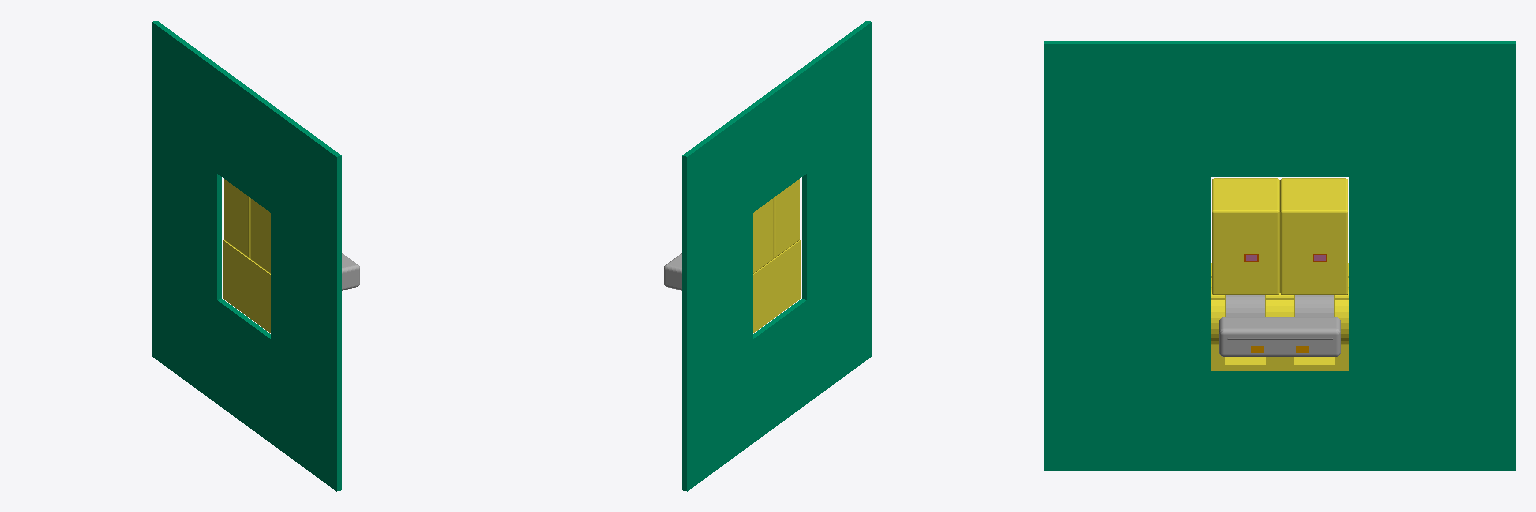
URDF robot description (circuit_breaker):
<?xml version="1.0" ?>
<!-- =================================================================================== -->
<!-- |    This document was autogenerated by xacro from src/IO_gazebo/urdf/breaker.urdf.xacro | -->
<!-- |    EDITING THIS FILE BY HAND IS NOT RECOMMENDED                                 | -->
<!-- =================================================================================== -->
<robot name="circuit_breaker">
  <link name="breaker_mount_link">
    <inertial>
      <origin xyz="0 0 0"/>
      <mass value="0.1"/>
      <inertia ixx="0.00024" ixy="0" ixz="0" iyy="0.00012003333333333334" iyz="0" izz="0.00012003333333333334"/>
    </inertial>
  </link>
  <link name="world"/>
  <joint name="breaker_world_mount" type="fixed">
    <parent link="world"/>
    <child link="breaker_mount_link"/>
    <origin rpy="0 0 0" xyz="0 0 0.12"/>
  </joint>
  <link name="breaker_panel_link">
    <inertial>
      <origin xyz="0 0 0"/>
      <mass value="0.1"/>
      <inertia ixx="0.00024" ixy="0" ixz="0" iyy="0.00012003333333333334" iyz="0" izz="0.00012003333333333334"/>
    </inertial>
    <visual>
      <origin xyz="-0.001 0 0.04135"/>
      <geometry>
        <box size="0.002 0.12 0.0373"/>
      </geometry>
    </visual>
    <collision>
      <origin xyz="-0.001 0 0.04135"/>
      <geometry>
        <box size="0.002 0.12 0.0373"/>
      </geometry>
    </collision>
    <visual>
      <origin xyz="-0.001 0 -0.04135"/>
      <geometry>
        <box size="0.002 0.12 0.0373"/>
      </geometry>
    </visual>
    <collision>
      <origin xyz="-0.001 0 -0.04135"/>
      <geometry>
        <box size="0.002 0.12 0.0373"/>
      </geometry>
    </collision>
    <visual>
      <origin xyz="-0.001 0.03885 0"/>
      <geometry>
        <box size="0.002 0.0423 0.0454"/>
      </geometry>
    </visual>
    <collision>
      <origin xyz="-0.001 0.03885 0"/>
      <geometry>
        <box size="0.002 0.0423 0.0454"/>
      </geometry>
    </collision>
    <visual>
      <origin xyz="-0.001 -0.03885 0"/>
      <geometry>
        <box size="0.002 0.0423 0.0454"/>
      </geometry>
    </visual>
    <collision>
      <origin xyz="-0.001 -0.03885 0"/>
      <geometry>
        <box size="0.002 0.0423 0.0454"/>
      </geometry>
    </collision>
  </link>
  <joint name="breaker_panel_mount" type="fixed">
    <parent link="breaker_mount_link"/>
    <child link="breaker_panel_link"/>
  </joint>
  <gazebo reference="breaker_panel_link">
    <visual>
      <material>
        <ambient>0.40 0.43 0.44 1</ambient>
        <diffuse>0.40 0.43 0.44 1</diffuse>
        <specular>0.12 0.12 0.12 1</specular>
      </material>
    </visual>
    <selfCollide>false</selfCollide>
    <mu1>0.65</mu1>
    <mu2>0.65</mu2>
    <kp>100000</kp>
    <kd>1</kd>
    <maxVel>0.03</maxVel>
    <minDepth>0.000005</minDepth>
  </gazebo>
  <link name="breaker_base_link">
    <inertial>
      <origin xyz="0.01 0 0"/>
      <mass value="0.03"/>
      <inertia ixx="8.125e-06" ixy="0" ixz="0" iyy="6.062499999999999e-06" iyz="0" izz="4.0625e-06"/>
    </inertial>
    <visual>
      <origin xyz="0.01 0.00875 0.010499999999999999"/>
      <geometry>
        <mesh filename="package://io_gazebo/meshes/upper_shell.stl"/>
      </geometry>
    </visual>
    <visual>
      <origin xyz="0.01 -0.00875 0.010499999999999999"/>
      <geometry>
        <mesh filename="package://io_gazebo/meshes/upper_shell.stl"/>
      </geometry>
    </visual>
    <!-- Upper plates, thin rear wall, and lower sill; no solid box across the moving recess. -->
    <collision>
      <origin xyz="0.01 0 0.010499999999999999"/>
      <geometry>
        <box size="0.02 0.035 0.024"/>
      </geometry>
    </collision>
    <visual>
      <origin xyz="0.004 0 -0.012"/>
      <geometry>
        <box size="0.008 0.035 0.020999999999999998"/>
      </geometry>
    </visual>
    <collision>
      <origin xyz="0.004 0 -0.012"/>
      <geometry>
        <box size="0.008 0.035 0.020999999999999998"/>
      </geometry>
    </collision>
    <visual>
      <origin xyz="0.01 0 -0.0217"/>
      <geometry>
        <box size="0.02 0.035 0.0016"/>
      </geometry>
    </visual>
    <collision>
      <origin xyz="0.01 0 -0.0217"/>
      <geometry>
        <box size="0.02 0.035 0.0016"/>
      </geometry>
    </collision>
    <visual>
      <origin xyz="0.014 0.015725000000000003 -0.012"/>
      <geometry>
        <box size="0.012 0.0035500000000000006 0.019999999999999997"/>
      </geometry>
    </visual>
    <collision>
      <origin xyz="0.014 0.015725000000000003 -0.012"/>
      <geometry>
        <box size="0.012 0.0035500000000000006 0.019999999999999997"/>
      </geometry>
    </collision>
    <visual>
      <origin rpy="1.5707963267948966 0 0" xyz="0.016 0.015725000000000003 -0.009"/>
      <geometry>
        <cylinder length="0.0035500000000000006" radius="0.0075"/>
      </geometry>
    </visual>
    <collision>
      <origin rpy="1.5707963267948966 0 0" xyz="0.016 0.015725000000000003 -0.009"/>
      <geometry>
        <cylinder length="0.0035500000000000006" radius="0.0075"/>
      </geometry>
    </collision>
    <visual>
      <origin xyz="0.014 0.0018750000000000004 -0.012"/>
      <geometry>
        <box size="0.012 0.0035500000000000006 0.019999999999999997"/>
      </geometry>
    </visual>
    <collision>
      <origin xyz="0.014 0.0018750000000000004 -0.012"/>
      <geometry>
        <box size="0.012 0.0035500000000000006 0.019999999999999997"/>
      </geometry>
    </collision>
    <visual>
      <origin rpy="1.5707963267948966 0 0" xyz="0.016 0.0018750000000000004 -0.009"/>
      <geometry>
        <cylinder length="0.0035500000000000006" radius="0.0075"/>
      </geometry>
    </visual>
    <collision>
      <origin rpy="1.5707963267948966 0 0" xyz="0.016 0.0018750000000000004 -0.009"/>
      <geometry>
        <cylinder length="0.0035500000000000006" radius="0.0075"/>
      </geometry>
    </collision>
    <visual>
      <origin xyz="0.014 -0.0018750000000000004 -0.012"/>
      <geometry>
        <box size="0.012 0.0035500000000000006 0.019999999999999997"/>
      </geometry>
    </visual>
    <collision>
      <origin xyz="0.014 -0.0018750000000000004 -0.012"/>
      <geometry>
        <box size="0.012 0.0035500000000000006 0.019999999999999997"/>
      </geometry>
    </collision>
    <visual>
      <origin rpy="1.5707963267948966 0 0" xyz="0.016 -0.0018750000000000004 -0.009"/>
      <geometry>
        <cylinder length="0.0035500000000000006" radius="0.0075"/>
      </geometry>
    </visual>
    <collision>
      <origin rpy="1.5707963267948966 0 0" xyz="0.016 -0.0018750000000000004 -0.009"/>
      <geometry>
        <cylinder length="0.0035500000000000006" radius="0.0075"/>
      </geometry>
    </collision>
    <visual>
      <origin xyz="0.014 -0.015725000000000003 -0.012"/>
      <geometry>
        <box size="0.012 0.0035500000000000006 0.019999999999999997"/>
      </geometry>
    </visual>
    <collision>
      <origin xyz="0.014 -0.015725000000000003 -0.012"/>
      <geometry>
        <box size="0.012 0.0035500000000000006 0.019999999999999997"/>
      </geometry>
    </collision>
    <visual>
      <origin rpy="1.5707963267948966 0 0" xyz="0.016 -0.015725000000000003 -0.009"/>
      <geometry>
        <cylinder length="0.0035500000000000006" radius="0.0075"/>
      </geometry>
    </visual>
    <collision>
      <origin rpy="1.5707963267948966 0 0" xyz="0.016 -0.015725000000000003 -0.009"/>
      <geometry>
        <cylinder length="0.0035500000000000006" radius="0.0075"/>
      </geometry>
    </collision>
  </link>
  <joint name="breaker_mount_joint" type="fixed">
    <parent link="breaker_mount_link"/>
    <child link="breaker_base_link"/>
    <origin xyz="0 0 0"/>
  </joint>
  <gazebo reference="breaker_base_link">
    <visual>
      <material>
        <ambient>0.875 0.875 0.835 1</ambient>
        <diffuse>0.875 0.875 0.835 1</diffuse>
        <specular>0.12 0.12 0.12 1</specular>
      </material>
    </visual>
    <selfCollide>false</selfCollide>
    <mu1>0.65</mu1>
    <mu2>0.65</mu2>
    <kp>100000</kp>
    <kd>1</kd>
    <maxVel>0.03</maxVel>
    <minDepth>0.000005</minDepth>
  </gazebo>
  <link name="breaker_label_link">
    <inertial>
      <origin xyz="0 0 0"/>
      <mass value="1e-05"/>
      <inertia ixx="1.5008333333333336e-09" ixy="0" ixz="0" iyy="4.800083333333334e-10" iyz="0" izz="1.0208416666666668e-09"/>
    </inertial>
    <!-- Keep the original mass/frame without product-label artwork. -->
  </link>
  <joint name="breaker_label_mount" type="fixed">
    <parent link="breaker_base_link"/>
    <child link="breaker_label_link"/>
  </joint>
  <gazebo reference="breaker_label_mount">
    <preserveFixedJoint>true</preserveFixedJoint>
  </gazebo>
  <link name="breaker_window_frame_link">
    <inertial>
      <origin xyz="0 0 0"/>
      <mass value="1e-05"/>
      <inertia ixx="1.5208333333333336e-11" ixy="0" ixz="0" iyy="4.483333333333334e-12" iyz="0" izz="1.0875e-11"/>
    </inertial>
    <visual>
      <origin xyz="0.02008 0.01025 0.0093"/>
      <geometry>
        <box size="0.0001 0.0036 0.0023"/>
      </geometry>
    </visual>
    <visual>
      <origin xyz="0.02008 -0.007250000000000001 0.0093"/>
      <geometry>
        <box size="0.0001 0.0036 0.0023"/>
      </geometry>
    </visual>
  </link>
  <joint name="breaker_window_frame_mount" type="fixed">
    <parent link="breaker_base_link"/>
    <child link="breaker_window_frame_link"/>
  </joint>
  <gazebo reference="breaker_window_frame_link">
    <visual>
      <material>
        <ambient>0.10 0.12 0.12 1</ambient>
        <diffuse>0.10 0.12 0.12 1</diffuse>
        <specular>0.12 0.12 0.12 1</specular>
      </material>
    </visual>
    <selfCollide>false</selfCollide>
    <mu1>0.65</mu1>
    <mu2>0.65</mu2>
    <kp>100000</kp>
    <kd>1</kd>
    <maxVel>0.03</maxVel>
    <minDepth>0.000005</minDepth>
  </gazebo>
  <link name="breaker_indicator_link">
    <inertial>
      <origin xyz="0 0 0"/>
      <mass value="1e-05"/>
      <inertia ixx="9.633333333333335e-12" ixy="0" ixz="0" iyy="2.141666666666667e-12" iyz="0" izz="7.508333333333334e-12"/>
    </inertial>
    <visual>
      <origin xyz="0.02015 0.01025 0.0093"/>
      <geometry>
        <box size="0.0001 0.0030 0.0016"/>
      </geometry>
    </visual>
    <visual>
      <origin xyz="0.02015 -0.007250000000000001 0.0093"/>
      <geometry>
        <box size="0.0001 0.0030 0.0016"/>
      </geometry>
    </visual>
  </link>
  <joint name="breaker_indicator_mount" type="fixed">
    <parent link="breaker_base_link"/>
    <child link="breaker_indicator_link"/>
  </joint>
  <gazebo reference="breaker_indicator_mount">
    <preserveFixedJoint>true</preserveFixedJoint>
  </gazebo>
  <gazebo reference="breaker_indicator_link">
    <visual>
      <material>
        <ambient>0.015 0.32 0.18 1</ambient>
        <diffuse>0.015 0.32 0.18 1</diffuse>
        <specular>0.12 0.12 0.12 1</specular>
      </material>
    </visual>
    <selfCollide>false</selfCollide>
    <mu1>0.65</mu1>
    <mu2>0.65</mu2>
    <kp>100000</kp>
    <kd>1</kd>
    <maxVel>0.03</maxVel>
    <minDepth>0.000005</minDepth>
  </gazebo>
  <link name="breaker_handle_link">
    <inertial>
      <origin xyz="0.00924 0 0"/>
      <mass value="0.006"/>
      <inertia ixx="5.383142499999999e-07" ixy="0" ixz="0" iyy="2.565314e-07" iyz="0" izz="6.9942965e-07"/>
    </inertial>
    <visual>
      <origin rpy="1.5707963267948966 0 0" xyz="0 0.00875 0"/>
      <geometry>
        <cylinder length="0.01" radius="0.0062"/>
      </geometry>
    </visual>
    <collision>
      <origin rpy="1.5707963267948966 0 0" xyz="0 0.00875 0"/>
      <geometry>
        <cylinder length="0.01" radius="0.0062"/>
      </geometry>
    </collision>
    <visual>
      <origin rpy="1.5707963267948966 0 0" xyz="0 -0.00875 0"/>
      <geometry>
        <cylinder length="0.01" radius="0.0062"/>
      </geometry>
    </visual>
    <collision>
      <origin rpy="1.5707963267948966 0 0" xyz="0 -0.00875 0"/>
      <geometry>
        <cylinder length="0.01" radius="0.0062"/>
      </geometry>
    </collision>
    <visual>
      <origin xyz="0.005 0.00875 0"/>
      <geometry>
        <mesh filename="package://io_gazebo/meshes/arm.stl"/>
      </geometry>
    </visual>
    <visual>
      <origin xyz="0.005 -0.00875 0"/>
      <geometry>
        <mesh filename="package://io_gazebo/meshes/arm.stl"/>
      </geometry>
    </visual>
    <collision>
      <origin xyz="0.005 0.00875 0"/>
      <geometry>
        <box size="0.013 0.01 0.0032"/>
      </geometry>
    </collision>
    <collision>
      <origin xyz="0.005 -0.00875 0"/>
      <geometry>
        <box size="0.013 0.01 0.0032"/>
      </geometry>
    </collision>
    <visual>
      <origin xyz="0.0126 0 0"/>
      <geometry>
        <mesh filename="package://io_gazebo/meshes/grip.stl"/>
      </geometry>
    </visual>
    <collision>
      <origin rpy="0.0 0.0 0.0" xyz="0.0126 0 0"/>
      <geometry>
        <box size="0.009 0.0284 0.0054"/>
      </geometry>
    </collision>
    <collision>
      <origin rpy="0.0 0.0 0.0" xyz="0.0126 0 0"/>
      <geometry>
        <box size="0.0063999999999999994 0.031 0.0054"/>
      </geometry>
    </collision>
    <collision>
      <origin rpy="0.0 0.0 0.0" xyz="0.0126 0 0"/>
      <geometry>
        <box size="0.0063999999999999994 0.0284 0.008"/>
      </geometry>
    </collision>
    <collision>
      <origin rpy="0.0 1.5707963267948966 0.0" xyz="0.0126 -0.0142 -0.0027"/>
      <geometry>
        <cylinder length="0.0063999999999999994" radius="0.0013"/>
      </geometry>
    </collision>
    <collision>
      <origin rpy="0.0 1.5707963267948966 0.0" xyz="0.0126 -0.0142 0.0027"/>
      <geometry>
        <cylinder length="0.0063999999999999994" radius="0.0013"/>
      </geometry>
    </collision>
    <collision>
      <origin rpy="0.0 1.5707963267948966 0.0" xyz="0.0126 0.0142 -0.0027"/>
      <geometry>
        <cylinder length="0.0063999999999999994" radius="0.0013"/>
      </geometry>
    </collision>
    <collision>
      <origin rpy="0.0 1.5707963267948966 0.0" xyz="0.0126 0.0142 0.0027"/>
      <geometry>
        <cylinder length="0.0063999999999999994" radius="0.0013"/>
      </geometry>
    </collision>
    <collision>
      <origin rpy="1.5707963267948966 0.0 0.0" xyz="0.0094 0 -0.0027"/>
      <geometry>
        <cylinder length="0.0284" radius="0.0013"/>
      </geometry>
    </collision>
    <collision>
      <origin rpy="1.5707963267948966 0.0 0.0" xyz="0.0094 0 0.0027"/>
      <geometry>
        <cylinder length="0.0284" radius="0.0013"/>
      </geometry>
    </collision>
    <collision>
      <origin rpy="1.5707963267948966 0.0 0.0" xyz="0.0158 0 -0.0027"/>
      <geometry>
        <cylinder length="0.0284" radius="0.0013"/>
      </geometry>
    </collision>
    <collision>
      <origin rpy="1.5707963267948966 0.0 0.0" xyz="0.0158 0 0.0027"/>
      <geometry>
        <cylinder length="0.0284" radius="0.0013"/>
      </geometry>
    </collision>
    <collision>
      <origin rpy="0.0 0.0 0.0" xyz="0.0094 -0.0142 0"/>
      <geometry>
        <cylinder length="0.0054" radius="0.0013"/>
      </geometry>
    </collision>
    <collision>
      <origin rpy="0.0 0.0 0.0" xyz="0.0094 0.0142 0"/>
      <geometry>
        <cylinder length="0.0054" radius="0.0013"/>
      </geometry>
    </collision>
    <collision>
      <origin rpy="0.0 0.0 0.0" xyz="0.0158 -0.0142 0"/>
      <geometry>
        <cylinder length="0.0054" radius="0.0013"/>
      </geometry>
    </collision>
    <collision>
      <origin rpy="0.0 0.0 0.0" xyz="0.0158 0.0142 0"/>
      <geometry>
        <cylinder length="0.0054" radius="0.0013"/>
      </geometry>
    </collision>
    <collision>
      <origin rpy="0.0 0.0 0.0" xyz="0.0094 -0.0142 -0.0027"/>
      <geometry>
        <sphere radius="0.0013"/>
      </geometry>
    </collision>
    <collision>
      <origin rpy="0.0 0.0 0.0" xyz="0.0094 -0.0142 0.0027"/>
      <geometry>
        <sphere radius="0.0013"/>
      </geometry>
    </collision>
    <collision>
      <origin rpy="0.0 0.0 0.0" xyz="0.0094 0.0142 -0.0027"/>
      <geometry>
        <sphere radius="0.0013"/>
      </geometry>
    </collision>
    <collision>
      <origin rpy="0.0 0.0 0.0" xyz="0.0094 0.0142 0.0027"/>
      <geometry>
        <sphere radius="0.0013"/>
      </geometry>
    </collision>
    <collision>
      <origin rpy="0.0 0.0 0.0" xyz="0.0158 -0.0142 -0.0027"/>
      <geometry>
        <sphere radius="0.0013"/>
      </geometry>
    </collision>
    <collision>
      <origin rpy="0.0 0.0 0.0" xyz="0.0158 -0.0142 0.0027"/>
      <geometry>
        <sphere radius="0.0013"/>
      </geometry>
    </collision>
    <collision>
      <origin rpy="0.0 0.0 0.0" xyz="0.0158 0.0142 -0.0027"/>
      <geometry>
        <sphere radius="0.0013"/>
      </geometry>
    </collision>
    <collision>
      <origin rpy="0.0 0.0 0.0" xyz="0.0158 0.0142 0.0027"/>
      <geometry>
        <sphere radius="0.0013"/>
      </geometry>
    </collision>
    <visual>
      <origin xyz="0.017 0 0.0017"/>
      <geometry>
        <mesh filename="package://io_gazebo/meshes/rib.stl"/>
      </geometry>
    </visual>
  </link>
  <joint name="breaker_toggle_joint" type="revolute">
    <parent link="breaker_base_link"/>
    <child link="breaker_handle_link"/>
    <origin xyz="0.016 0 -0.009"/>
    <axis xyz="0 1 0"/>
    <limit effort="0.06" lower="-0.6981317007977318" upper="0.6981317007977318" velocity="50"/>
    <dynamics damping="0" friction="0"/>
  </joint>
  <gazebo reference="breaker_handle_link">
    <visual>
      <material>
        <ambient>0.015 0.255 0.76 1</ambient>
        <diffuse>0.015 0.255 0.76 1</diffuse>
        <specular>0.12 0.12 0.12 1</specular>
      </material>
    </visual>
    <selfCollide>false</selfCollide>
    <mu1>0.65</mu1>
    <mu2>0.65</mu2>
    <kp>100000</kp>
    <kd>1</kd>
    <maxVel>0.03</maxVel>
    <minDepth>0.000005</minDepth>
  </gazebo>
  <!-- Dark pocket inserts are visual only; no finger-sized opening is obstructed. -->
  <link name="breaker_pockets_link">
    <inertial>
      <origin xyz="0 0 0"/>
      <mass value="1e-06"/>
      <inertia ixx="1.6603333333333335e-11" ixy="0" ixz="0" iyy="2.708333333333333e-13" iyz="0" izz="1.6334166666666668e-11"/>
    </inertial>
    <visual>
      <origin xyz="0.017115000000000002 0.0057 -0.0014"/>
      <geometry>
        <box size="0.00003 0.0032 0.0018"/>
      </geometry>
    </visual>
    <visual>
      <origin xyz="0.017115000000000002 -0.0057 -0.0014"/>
      <geometry>
        <box size="0.00003 0.0032 0.0018"/>
      </geometry>
    </visual>
  </link>
  <joint name="breaker_pockets_mount" type="fixed">
    <parent link="breaker_handle_link"/>
    <child link="breaker_pockets_link"/>
  </joint>
  <gazebo reference="breaker_pockets_link">
    <visual>
      <material>
        <ambient>0.002 0.035 0.15 1</ambient>
        <diffuse>0.002 0.035 0.15 1</diffuse>
        <specular>0.12 0.12 0.12 1</specular>
      </material>
    </visual>
    <selfCollide>false</selfCollide>
    <mu1>0.65</mu1>
    <mu2>0.65</mu2>
    <kp>100000</kp>
    <kd>1</kd>
    <maxVel>0.03</maxVel>
    <minDepth>0.000005</minDepth>
  </gazebo>
  <link name="breaker_grip_center"/>
  <joint name="breaker_grip_center_mount" type="fixed">
    <parent link="breaker_handle_link"/>
    <child link="breaker_grip_center"/>
    <origin xyz="0.0126 0 0"/>
  </joint>
  <link name="breaker_push_up_contact"/>
  <joint name="breaker_push_up_contact_mount" type="fixed">
    <parent link="breaker_handle_link"/>
    <child link="breaker_push_up_contact"/>
    <origin xyz="0.0126 0 -0.004"/>
  </joint>
  <link name="breaker_push_down_contact"/>
  <joint name="breaker_push_down_contact_mount" type="fixed">
    <parent link="breaker_handle_link"/>
    <child link="breaker_push_down_contact"/>
    <origin xyz="0.0126 0 0.004"/>
  </joint>
  <gazebo>
    <plugin filename="libbreaker_interaction_plugin.so" name="breaker_interaction">
      <jointPrefix>breaker_</jointPrefix>
      <robotNamespace>/breaker</robotNamespace>
      <demoControl>True</demoControl>
      <halfAngle>0.6981317007977318</halfAngle>
      <hysteresis>0.17453292519943295</hysteresis>
      <peakTorque>0.015</peakTorque>
      <damping>0.0008</damping>
      <pivotInertia>7.68797e-07</pivotInertia>
      <demoKp>0.08</demoKp>
      <demoKd>0.0008</demoKd>
      <demoTorqueLimit>0.04</demoTorqueLimit>
      <effortLimit>0.06</effortLimit>
      <targetSpeed>1.5</targetSpeed>
      <actionTimeout>5.0</actionTimeout>
    </plugin>
  </gazebo>
</robot>

--- Render facts (derived) ---
The picture shows the robot from 3 angles, left to right: view 1: azimuth 30°, elevation 25°; view 2: azimuth 150°, elevation 25°; view 3: azimuth 270°, elevation 25°; orthographic projection.
Model circuit_breaker with 12 links and 11 joints (1 revolute, 10 fixed), rooted at world, posed every joint at zero.
Visible links, largest first — view 1: breaker_panel_link, breaker_base_link; view 2: breaker_panel_link, breaker_base_link; view 3: breaker_panel_link, breaker_base_link, breaker_handle_link.
Boxes of the visible links, x1,y1,x2,y2 form: breaker_panel_link: [152, 21, 341, 491]; breaker_base_link: [223, 179, 270, 332]; breaker_panel_link: [682, 21, 871, 491]; breaker_base_link: [753, 179, 800, 332]; breaker_panel_link: [1044, 41, 1515, 470]; breaker_base_link: [1211, 178, 1348, 370]; breaker_handle_link: [1219, 295, 1340, 356].
Size in the robot's own frame: 0.0353 by 0.12 by 0.12 metres.
6 mesh visuals loaded from 4 distinct referenced files (4 binary STL).
